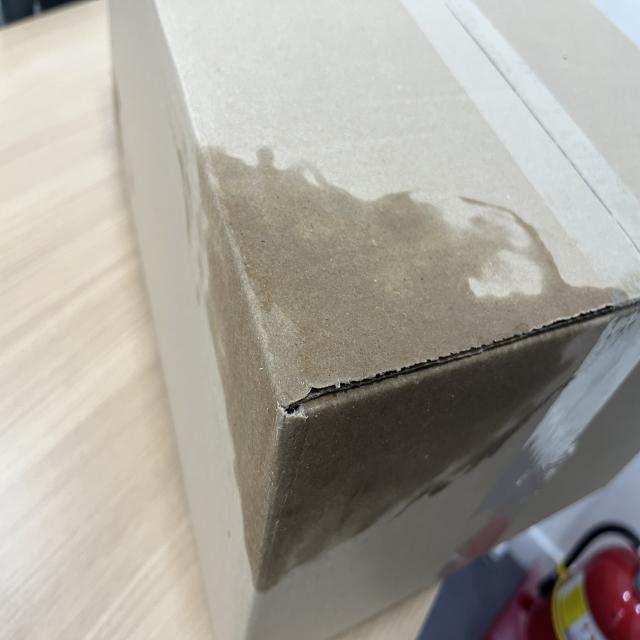wet: (179, 150, 599, 562)
